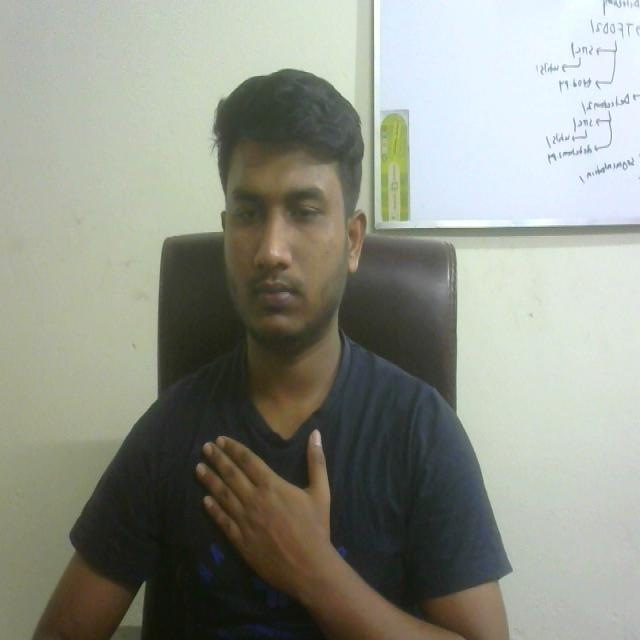E: (177, 403, 351, 597)
